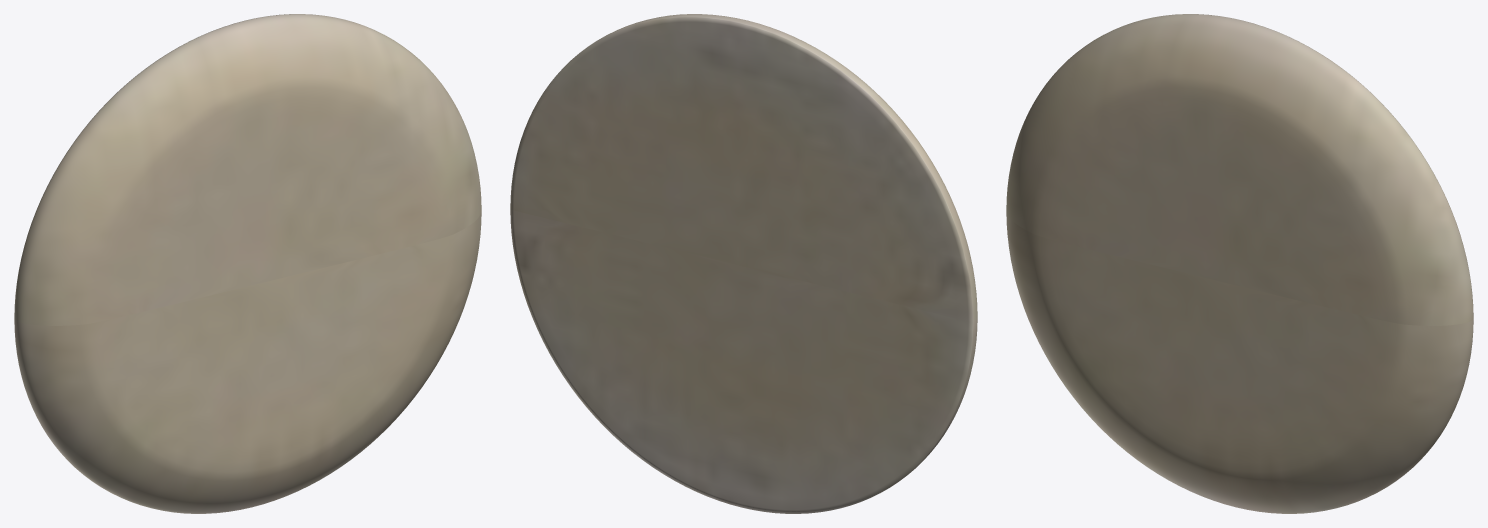
Rendered from RoundRedOnionRoot.obj.
3 views of the same model, side by side, from view 1: azimuth 30°, elevation 25°; view 2: azimuth 150°, elevation 25°; view 3: azimuth 330°, elevation 25° (orthographic).
Parts seen in each view (by area): view 1: RoundRedOnionRoot; view 2: RoundRedOnionRoot; view 3: RoundRedOnionRoot.
Part boxes in pixels (box(x1,y1,x2,y2)): RoundRedOnionRoot: box(14, 14, 481, 513); RoundRedOnionRoot: box(510, 14, 977, 513); RoundRedOnionRoot: box(1006, 14, 1473, 513).
Bounding box in the file's own units: 0.0268 × 0.0268 × 0.00258.
1 material, 1 textured.
